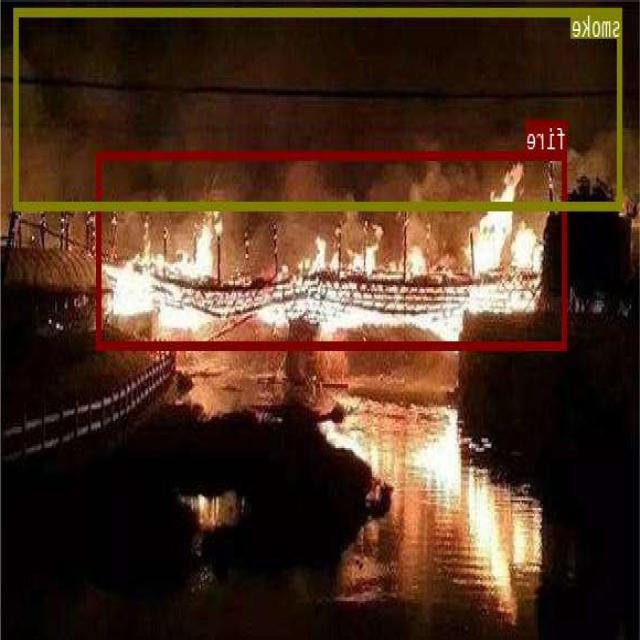fire: (98, 150, 568, 348)
smoke: (15, 6, 623, 208)
